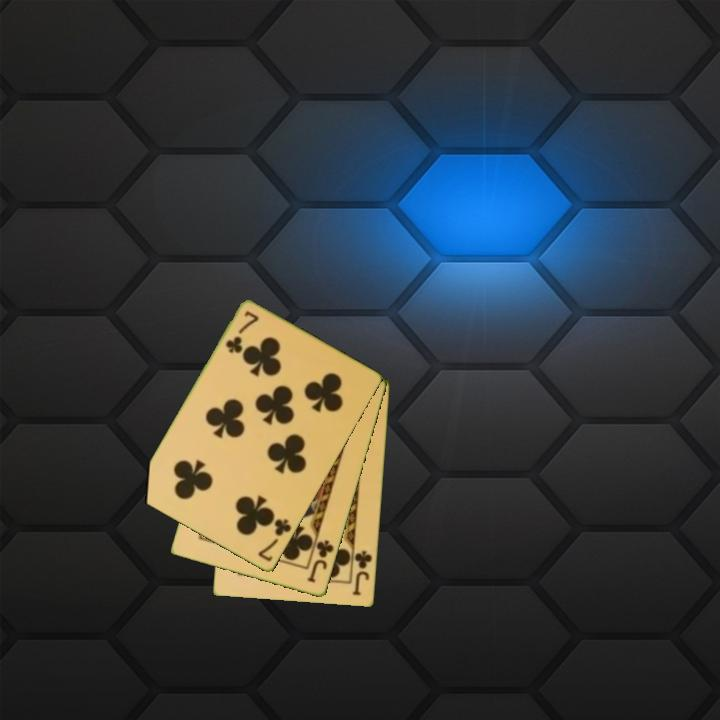7c: (254, 515, 294, 565), (222, 308, 261, 357)
Jc: (304, 536, 337, 586), (350, 547, 375, 599)
